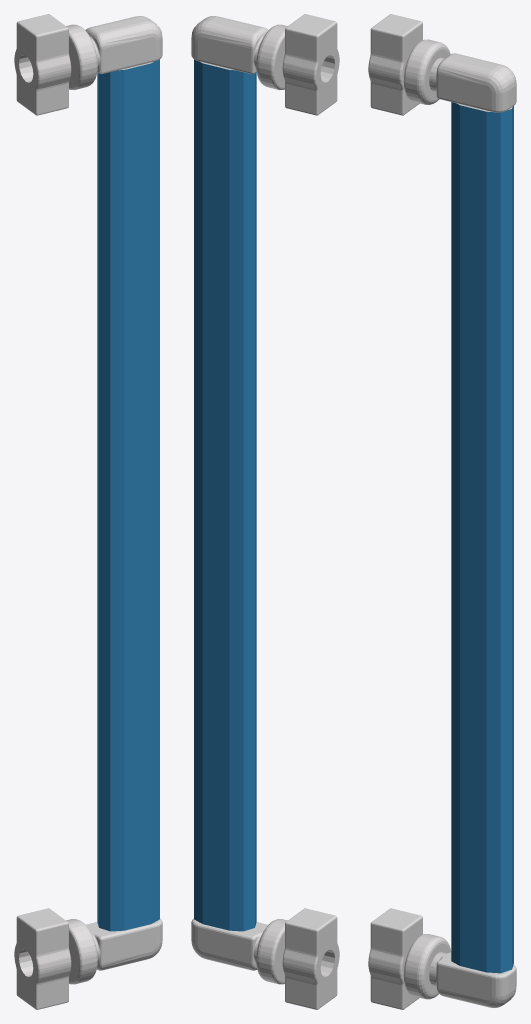
Rendered from handrail_21_5.dae.
3 renders of one model, left to right at view 1: azimuth 30°, elevation 25°; view 2: azimuth 150°, elevation 25°; view 3: azimuth 330°, elevation 25°, orthographic.
Visible parts, largest first — view 1: Handrail_21_5_001, Handrail_21_5; view 2: Handrail_21_5_001, Handrail_21_5; view 3: Handrail_21_5_001, Handrail_21_5.
Part boxes in pixels (x1,y1,x2,y2): Handrail_21_5_001: (97,59,159,931); Handrail_21_5: (14,14,162,1009); Handrail_21_5_001: (194,59,256,931); Handrail_21_5: (191,14,339,1009); Handrail_21_5_001: (451,102,513,973); Handrail_21_5: (368,14,516,1009).
Size of the model in its own units: 0.0782 by 0.033 by 0.5528.
